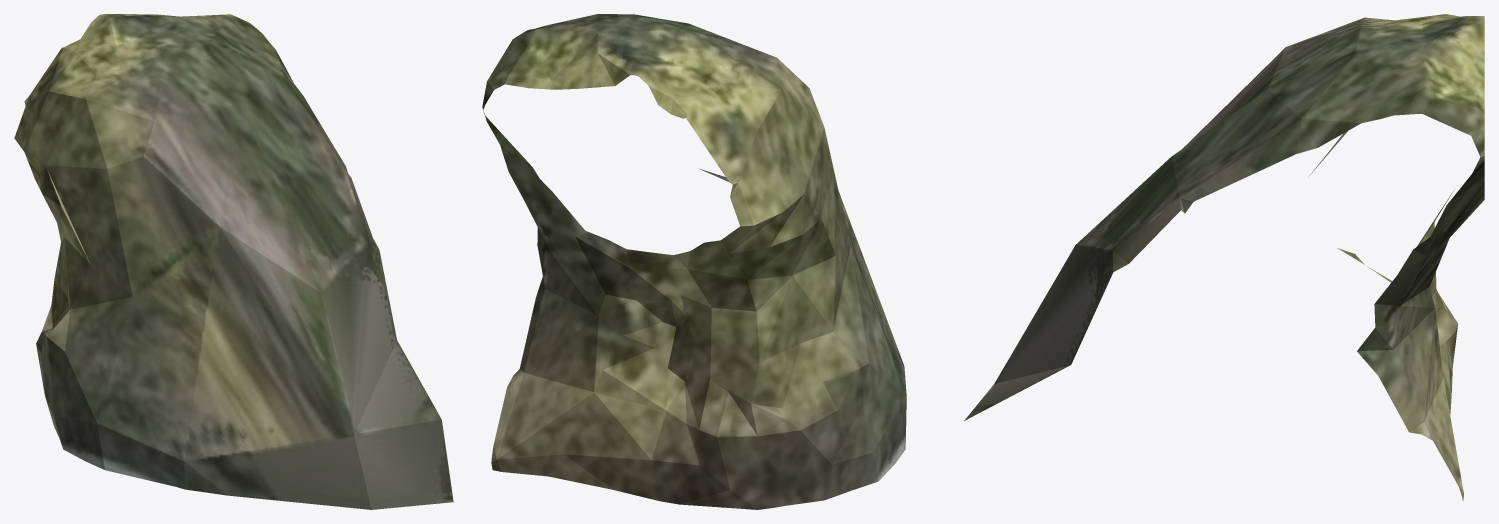
The picture shows the model from 3 angles, left to right: view 1: azimuth 30°, elevation 25°; view 2: azimuth 150°, elevation 25°; view 3: azimuth 270°, elevation 25°; orthographic projection. The views are drawn at different scales.
Bounding box in the file's own units: 2.52 × 3.51 × 4.13.
2 materials, 2 textured.
